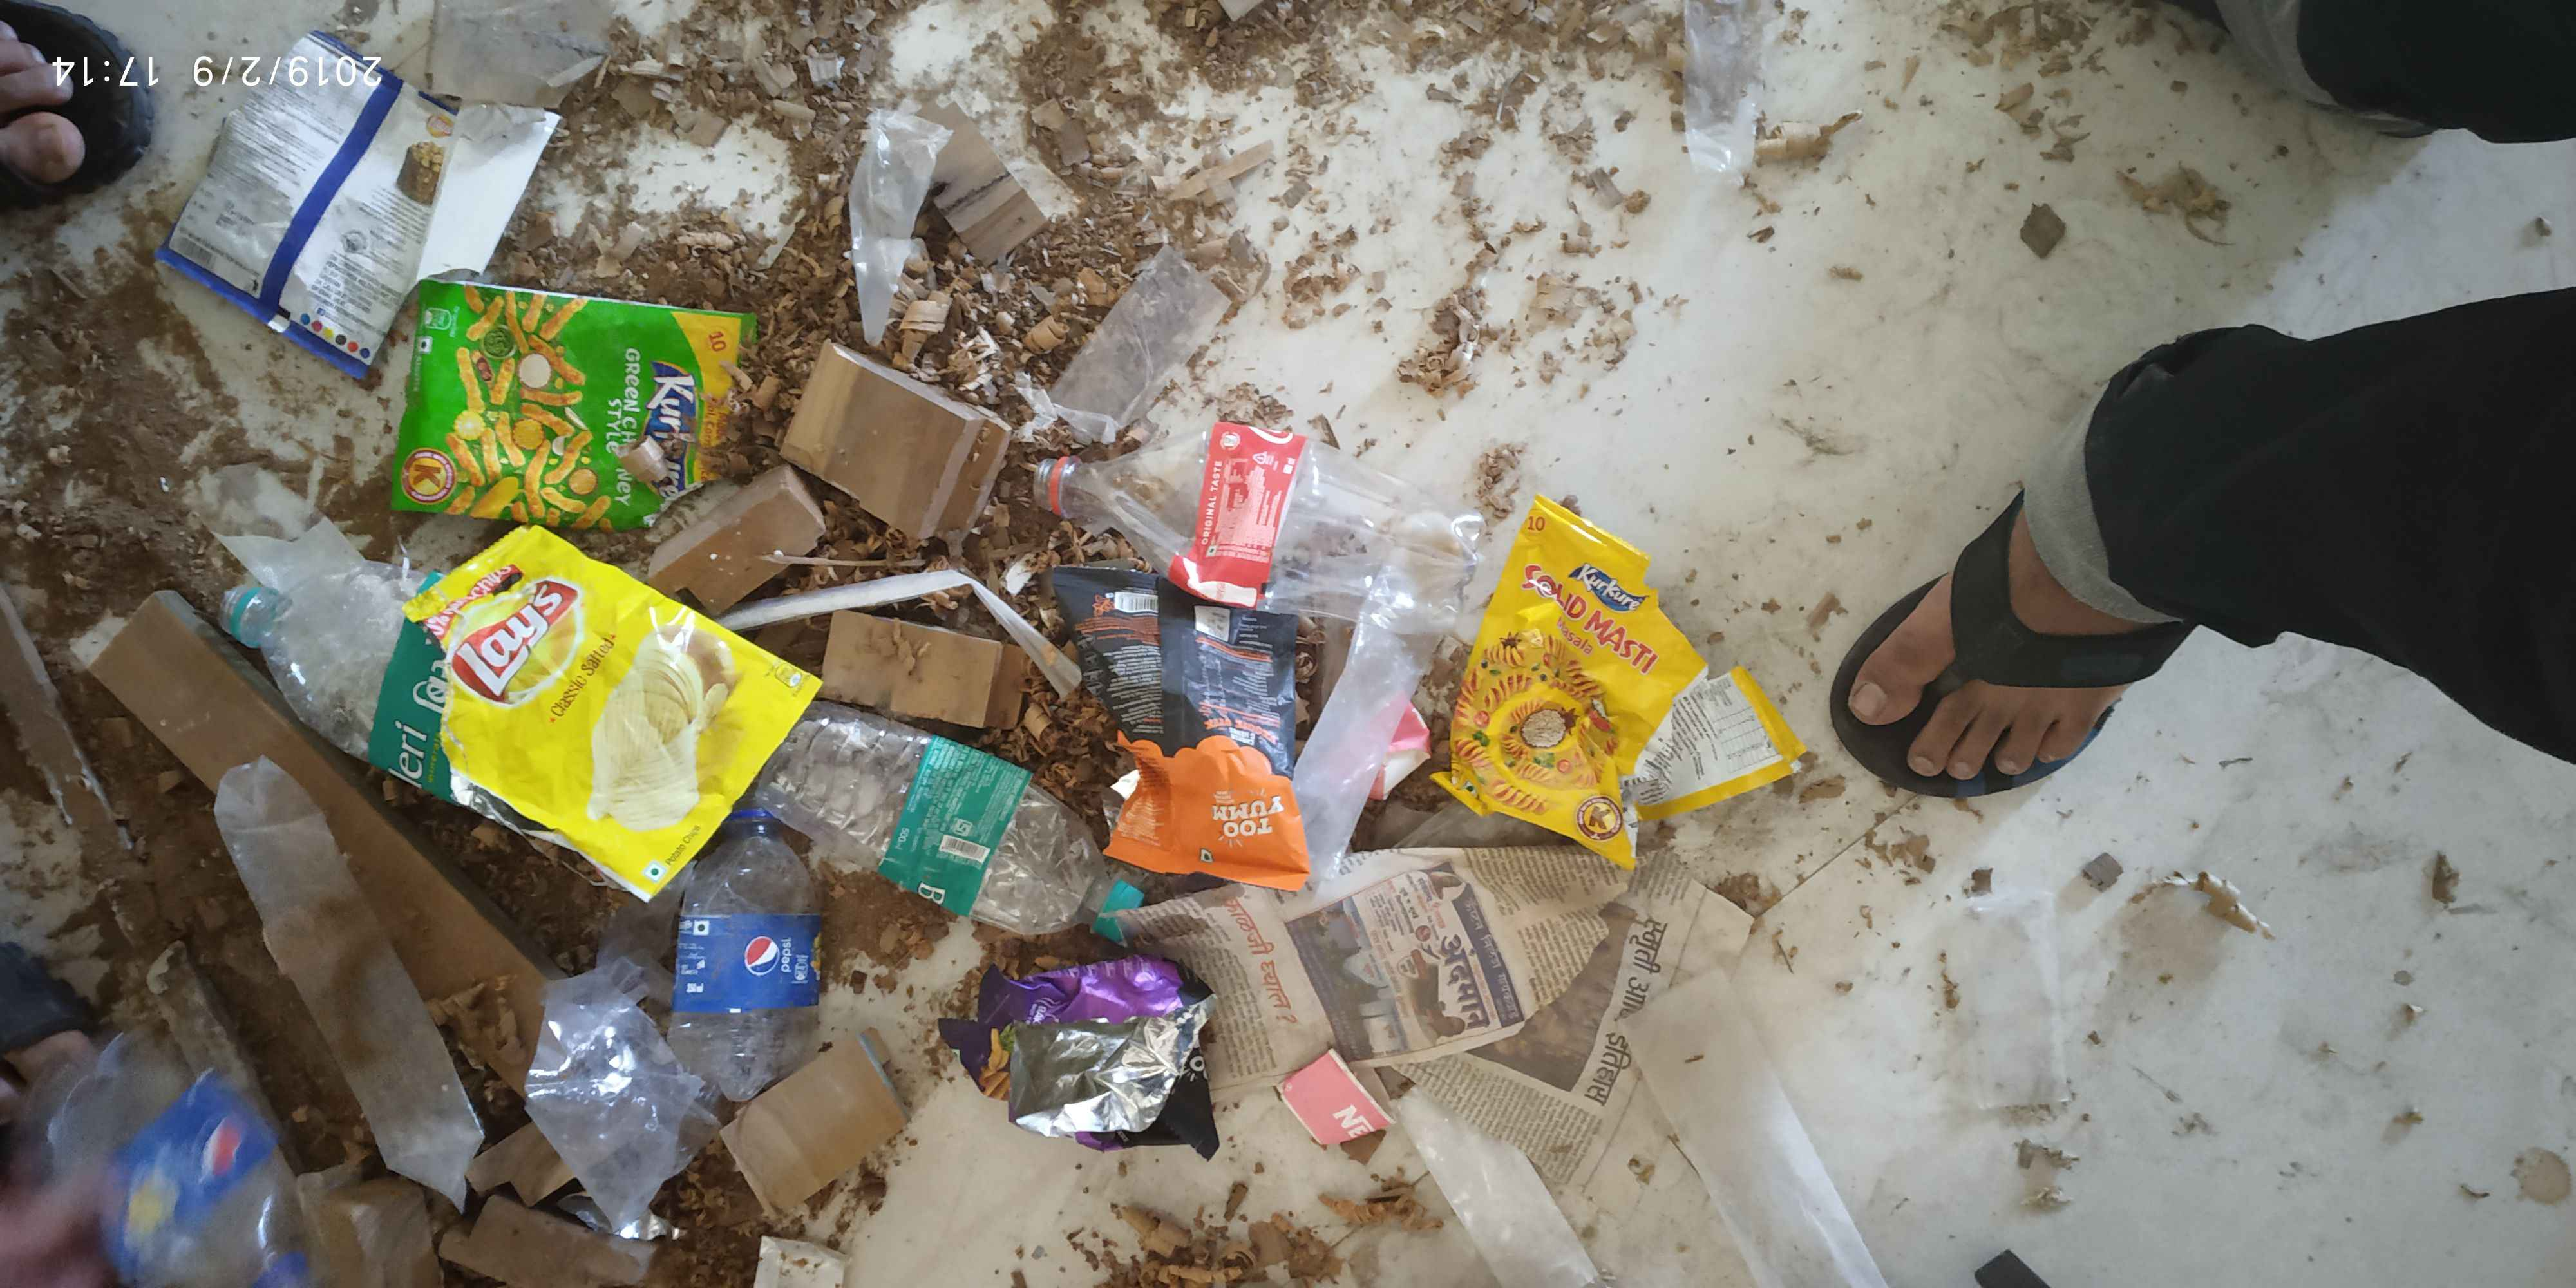Bisleri: (910, 789, 996, 920)
Coca-Cola: (1214, 422, 1295, 575)
Lays: (442, 563, 577, 728), (414, 99, 471, 143)
kurkure: (644, 337, 711, 498), (1557, 542, 1656, 621)
pepsi: (701, 905, 838, 987), (158, 1092, 255, 1204)
tooyumm: (1199, 780, 1311, 864), (1165, 1002, 1217, 1114)
